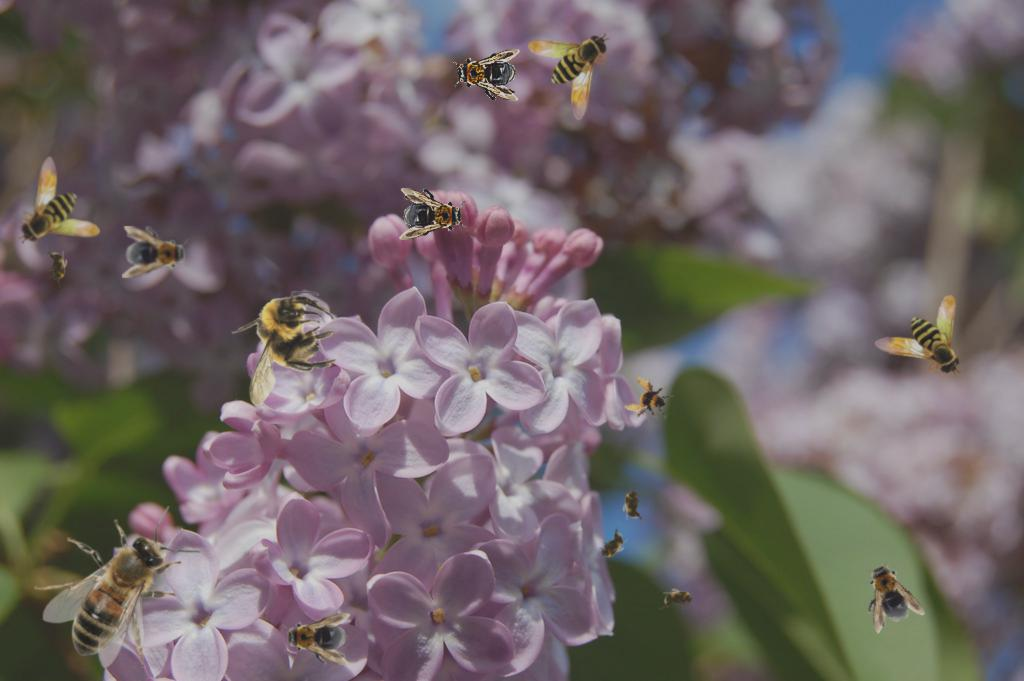Bee: (34, 506, 201, 668), (231, 291, 338, 406), (873, 293, 963, 377), (528, 33, 610, 121), (18, 156, 100, 244), (850, 552, 926, 636), (122, 226, 190, 278), (282, 613, 350, 665), (399, 188, 467, 240), (452, 49, 520, 101), (621, 373, 677, 429), (590, 524, 634, 568), (46, 247, 68, 287), (622, 484, 644, 524), (659, 588, 699, 610)
